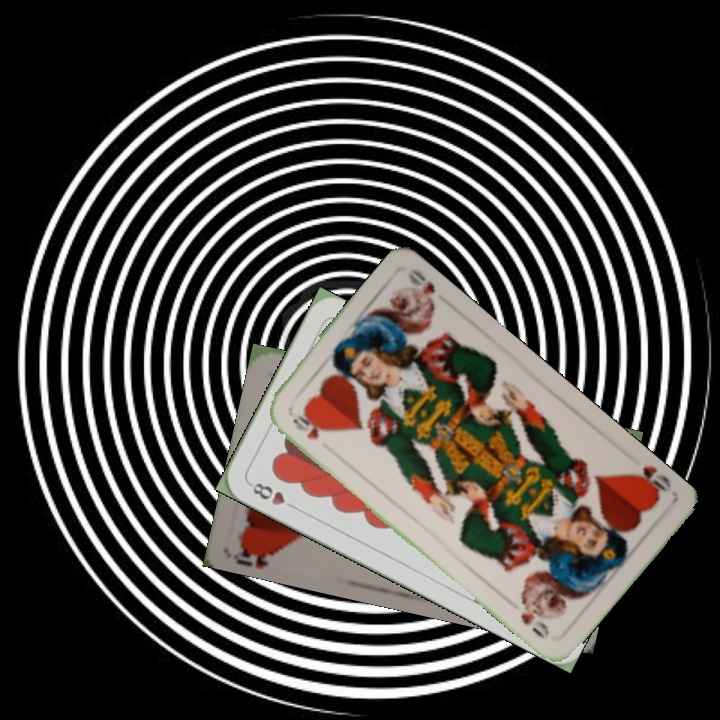H8: (245, 478, 300, 512)
HO: (625, 461, 674, 503), (229, 538, 281, 571), (288, 409, 328, 443)
